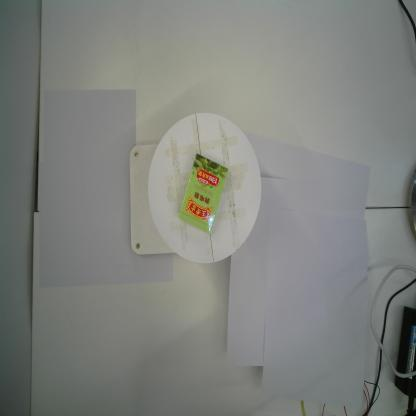Candy: (178, 153, 228, 234)
